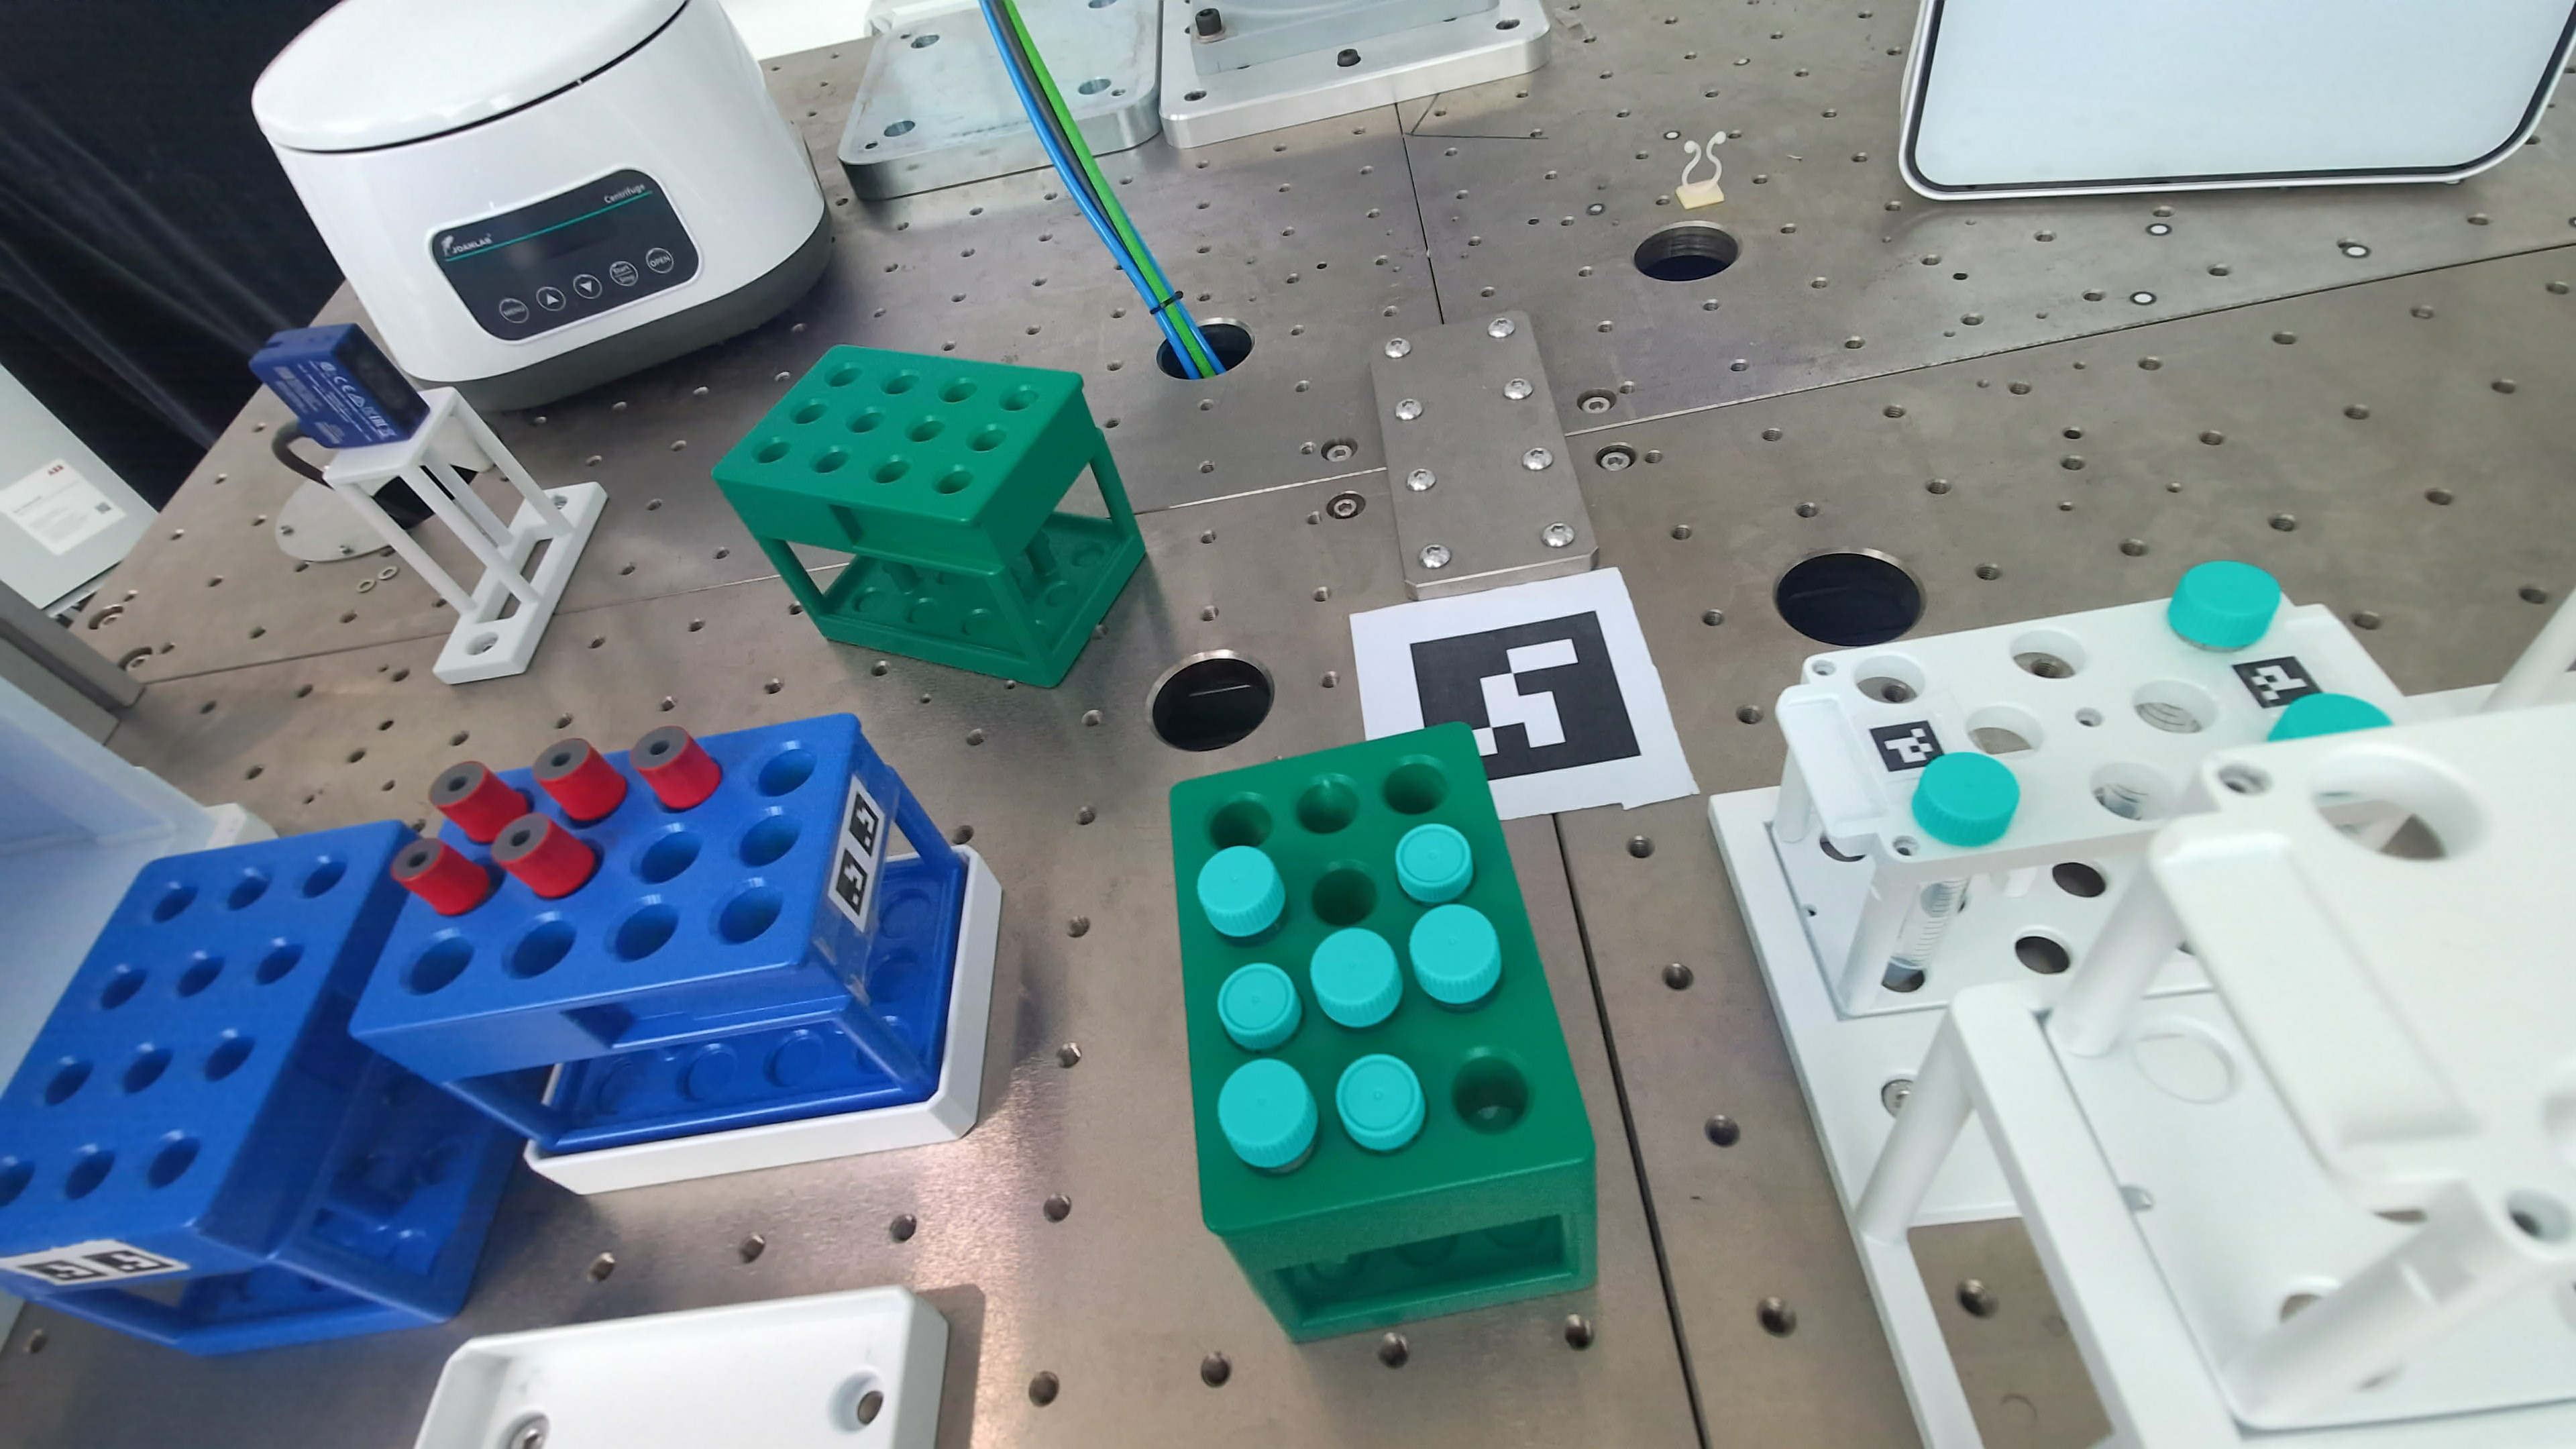10ML_centrifuge_tube: (1217, 1058, 1318, 1171), (1911, 752, 2019, 847), (2167, 561, 2281, 649), (1311, 927, 1403, 1028), (1410, 904, 1502, 1005), (1196, 846, 1284, 938), (2268, 694, 2390, 741)
10ML_sorting_tube_rack: (0, 821, 517, 1353), (352, 715, 968, 1155)
5ML_centrifuge_tube: (1336, 1054, 1426, 1152), (1217, 962, 1302, 1051), (1394, 824, 1474, 904)
5ML_sorting_tube_rack: (1171, 725, 1596, 1341), (713, 345, 1145, 686)
blood_tube: (492, 812, 598, 899), (430, 761, 531, 844), (533, 738, 628, 823), (630, 725, 722, 810), (391, 839, 490, 915)
centrifuge_close: (253, 0, 833, 410)
dispensing_tube_rack: (1713, 596, 2576, 1445)
refrigerator_close: (1898, 0, 2576, 200)
sorting_tube_rack_base: (525, 849, 1001, 1194), (418, 1288, 947, 1449)
tube_rack_storage_cabinet: (0, 679, 269, 1329)
